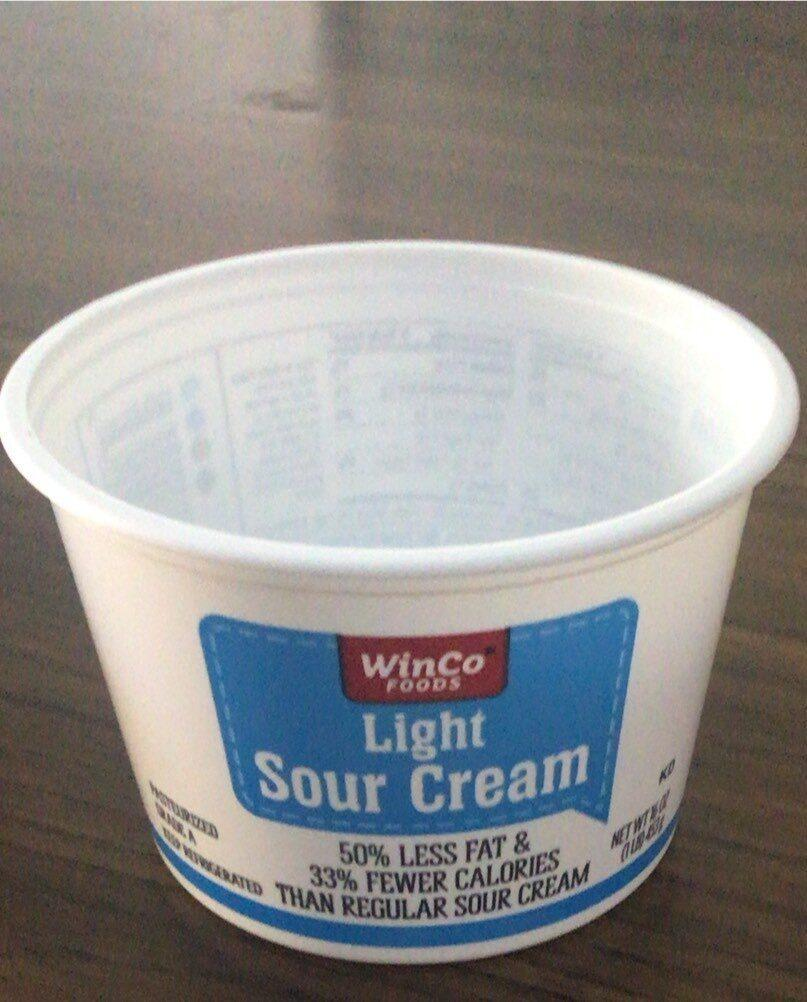plastic: (0, 241, 799, 963)
